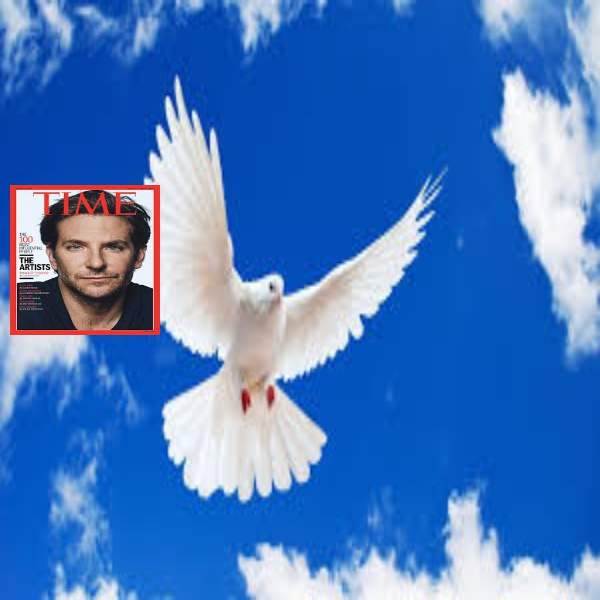time_cover: (8, 172, 163, 344)
